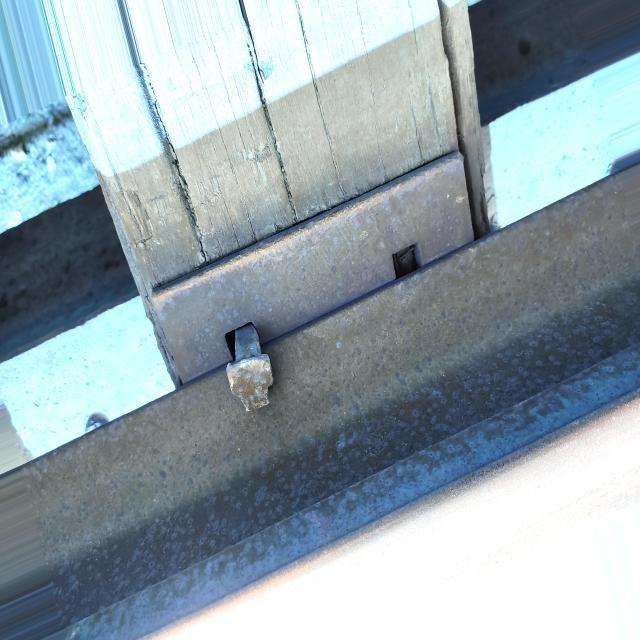Missing Dogscrew: (392, 243, 421, 279)
